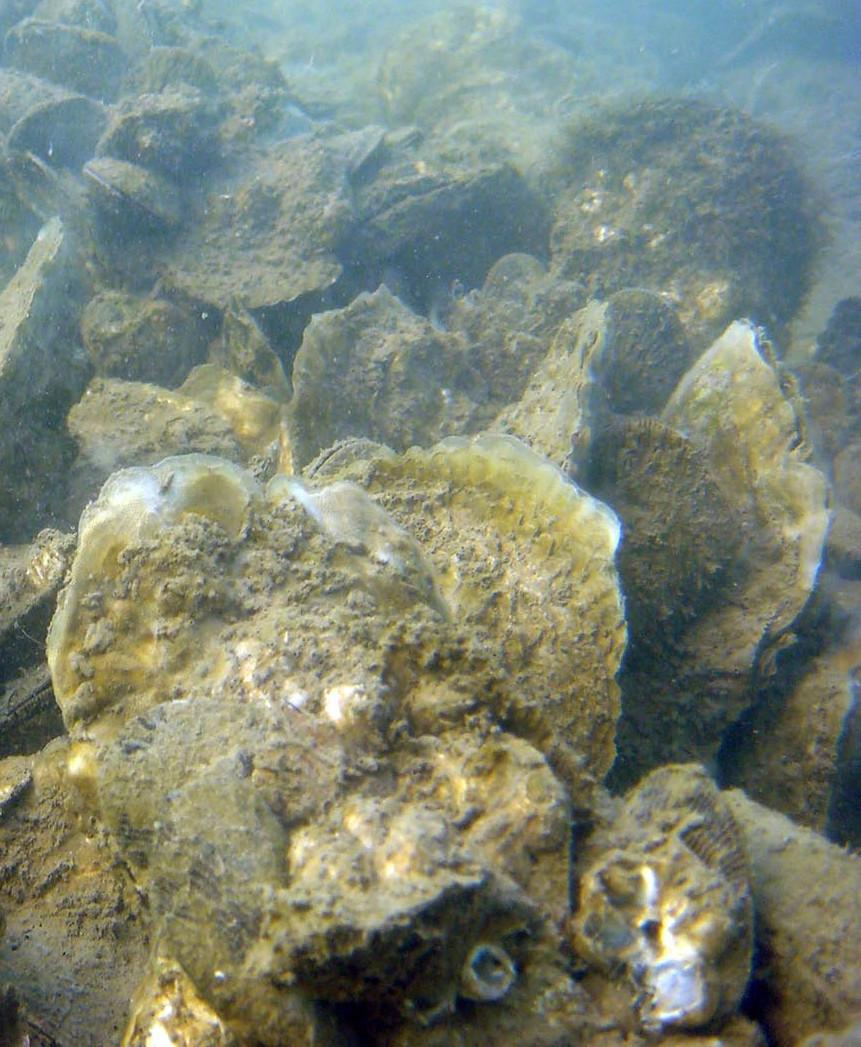3: (336, 165, 504, 268), (303, 436, 397, 479), (0, 664, 55, 729), (390, 126, 421, 150)
Oyster-Closed: (602, 318, 830, 799), (322, 436, 631, 780), (725, 642, 861, 849), (82, 159, 188, 235), (222, 311, 288, 405), (329, 125, 384, 174)
Oyster-Open: (40, 454, 761, 1047), (107, 730, 590, 1047), (535, 96, 826, 370), (143, 761, 364, 1047), (98, 701, 398, 884), (269, 802, 522, 1004), (0, 735, 157, 1047), (573, 764, 754, 1031), (486, 291, 691, 486), (283, 284, 484, 475), (595, 419, 736, 668), (725, 789, 861, 1047), (158, 131, 348, 309), (0, 219, 93, 421), (67, 375, 244, 470), (80, 290, 212, 390), (100, 102, 227, 203), (8, 20, 134, 100), (180, 366, 282, 459), (0, 534, 79, 639), (13, 99, 104, 168), (794, 360, 848, 458), (124, 52, 220, 96), (814, 298, 861, 378), (483, 252, 548, 296)
